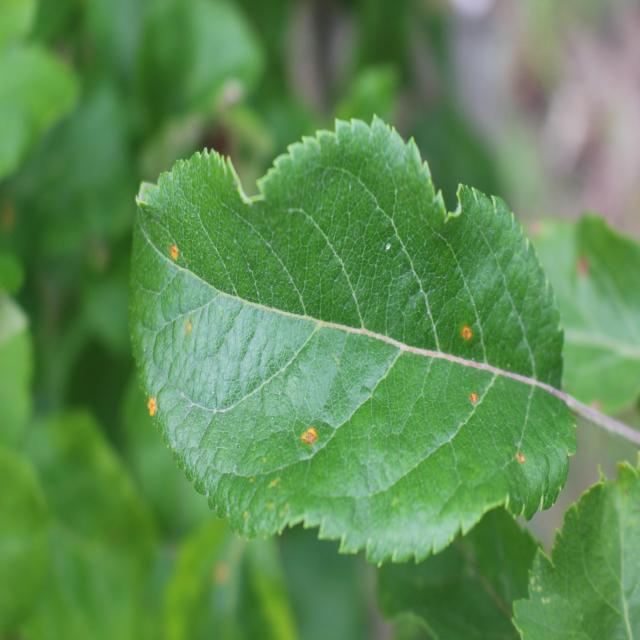Rust: (292, 418, 320, 452), (148, 385, 164, 430), (160, 238, 183, 262), (460, 318, 477, 350), (468, 382, 484, 413), (514, 448, 528, 474), (180, 320, 196, 337)
